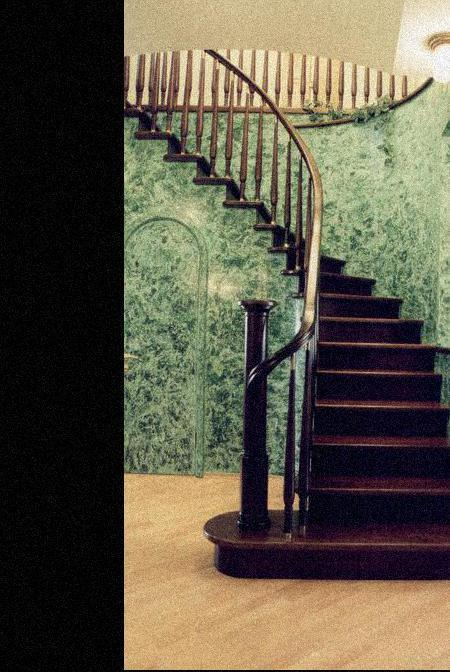Escaleras: (133, 71, 450, 576)
